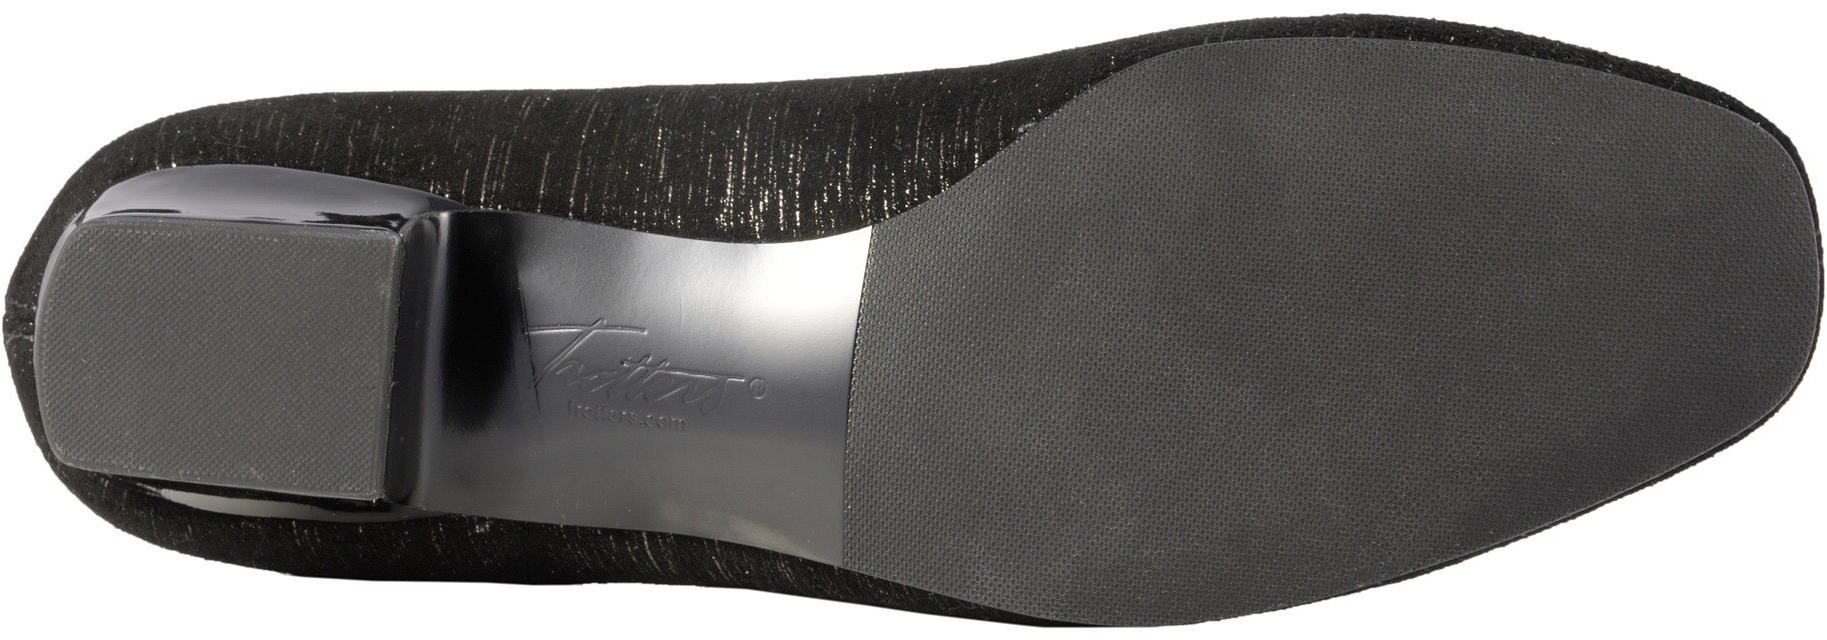other: (842, 52, 1819, 630), (37, 223, 396, 497), (1098, 97, 1360, 342), (1100, 347, 1339, 546), (1369, 114, 1596, 317), (894, 242, 1095, 431), (1597, 187, 1803, 368), (1363, 328, 1549, 513), (237, 248, 381, 448), (925, 435, 1088, 595), (66, 270, 230, 415)
quad: (1230, 141, 1422, 349), (1498, 170, 1578, 252), (97, 273, 154, 329), (1449, 275, 1483, 309)
